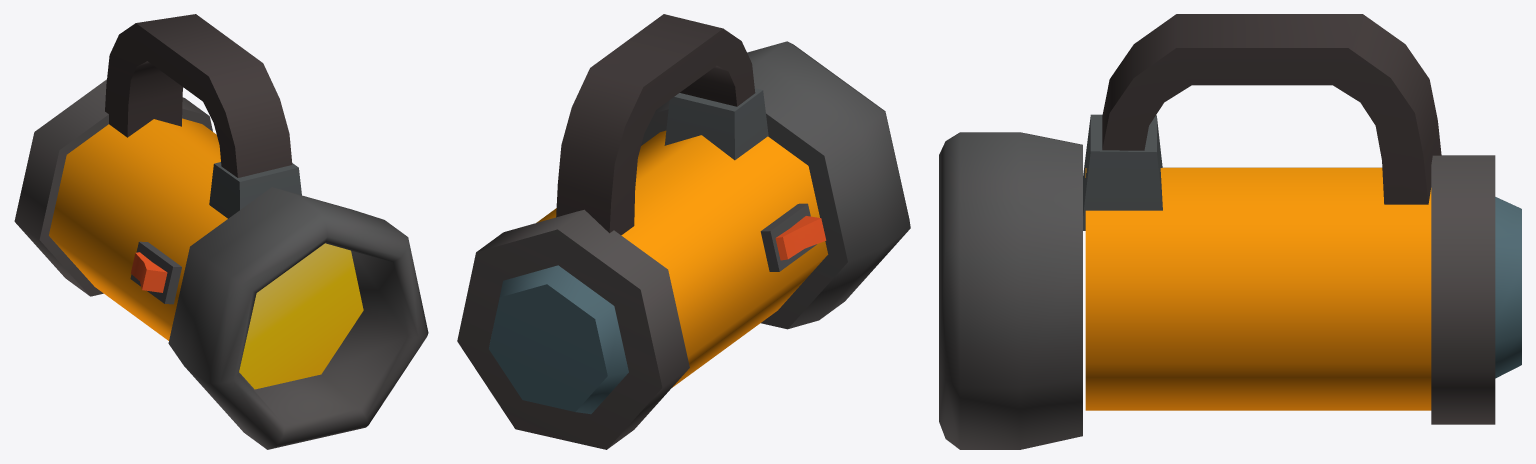
Rendered from Flashlight.fbx.
3 views of the same model, side by side, from view 1: azimuth 30°, elevation 25°; view 2: azimuth 150°, elevation 25°; view 3: azimuth 270°, elevation 25° (orthographic). The views are drawn at different scales.
Parts seen in each view (by area): view 1: Flashlight; view 2: Flashlight; view 3: Flashlight.
Part boxes in pixels (left/top/right/bottom): Flashlight: left=14, top=14, right=428, bottom=449; Flashlight: left=457, top=14, right=910, bottom=449; Flashlight: left=939, top=14, right=1521, bottom=449.
Bounding box in the file's own units: 17.25 × 30.87 × 22.86.
